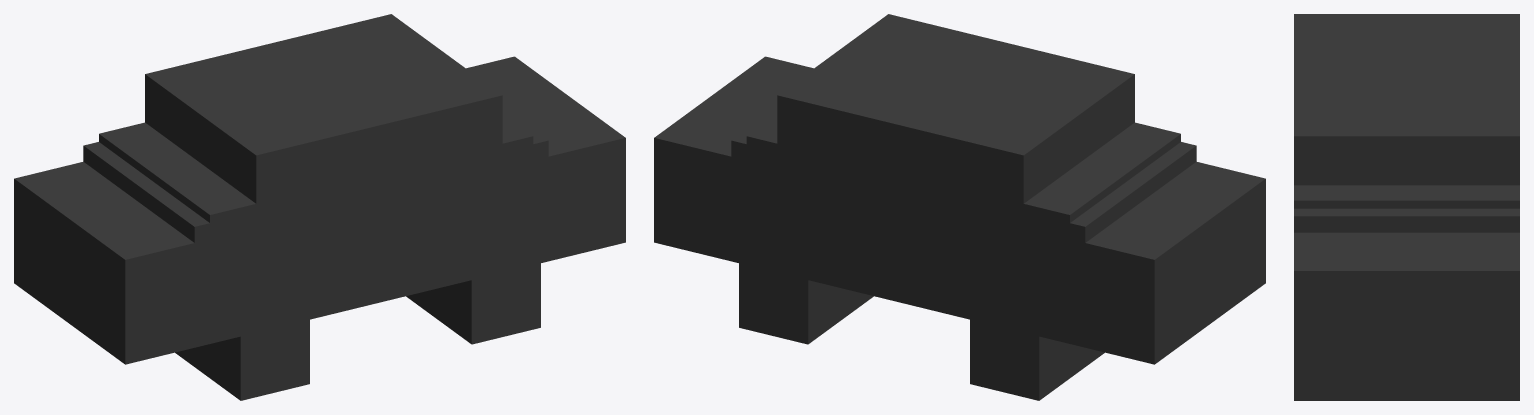
Rendered from LP_car1.obj.
The picture shows the model from 3 angles, left to right: view 1: azimuth 30°, elevation 25°; view 2: azimuth 150°, elevation 25°; view 3: azimuth 270°, elevation 25°; orthographic projection.
Bounding box in the file's own units: 6.5 × 3 × 2.5.
Materials: 1 (1 with a texture image).
